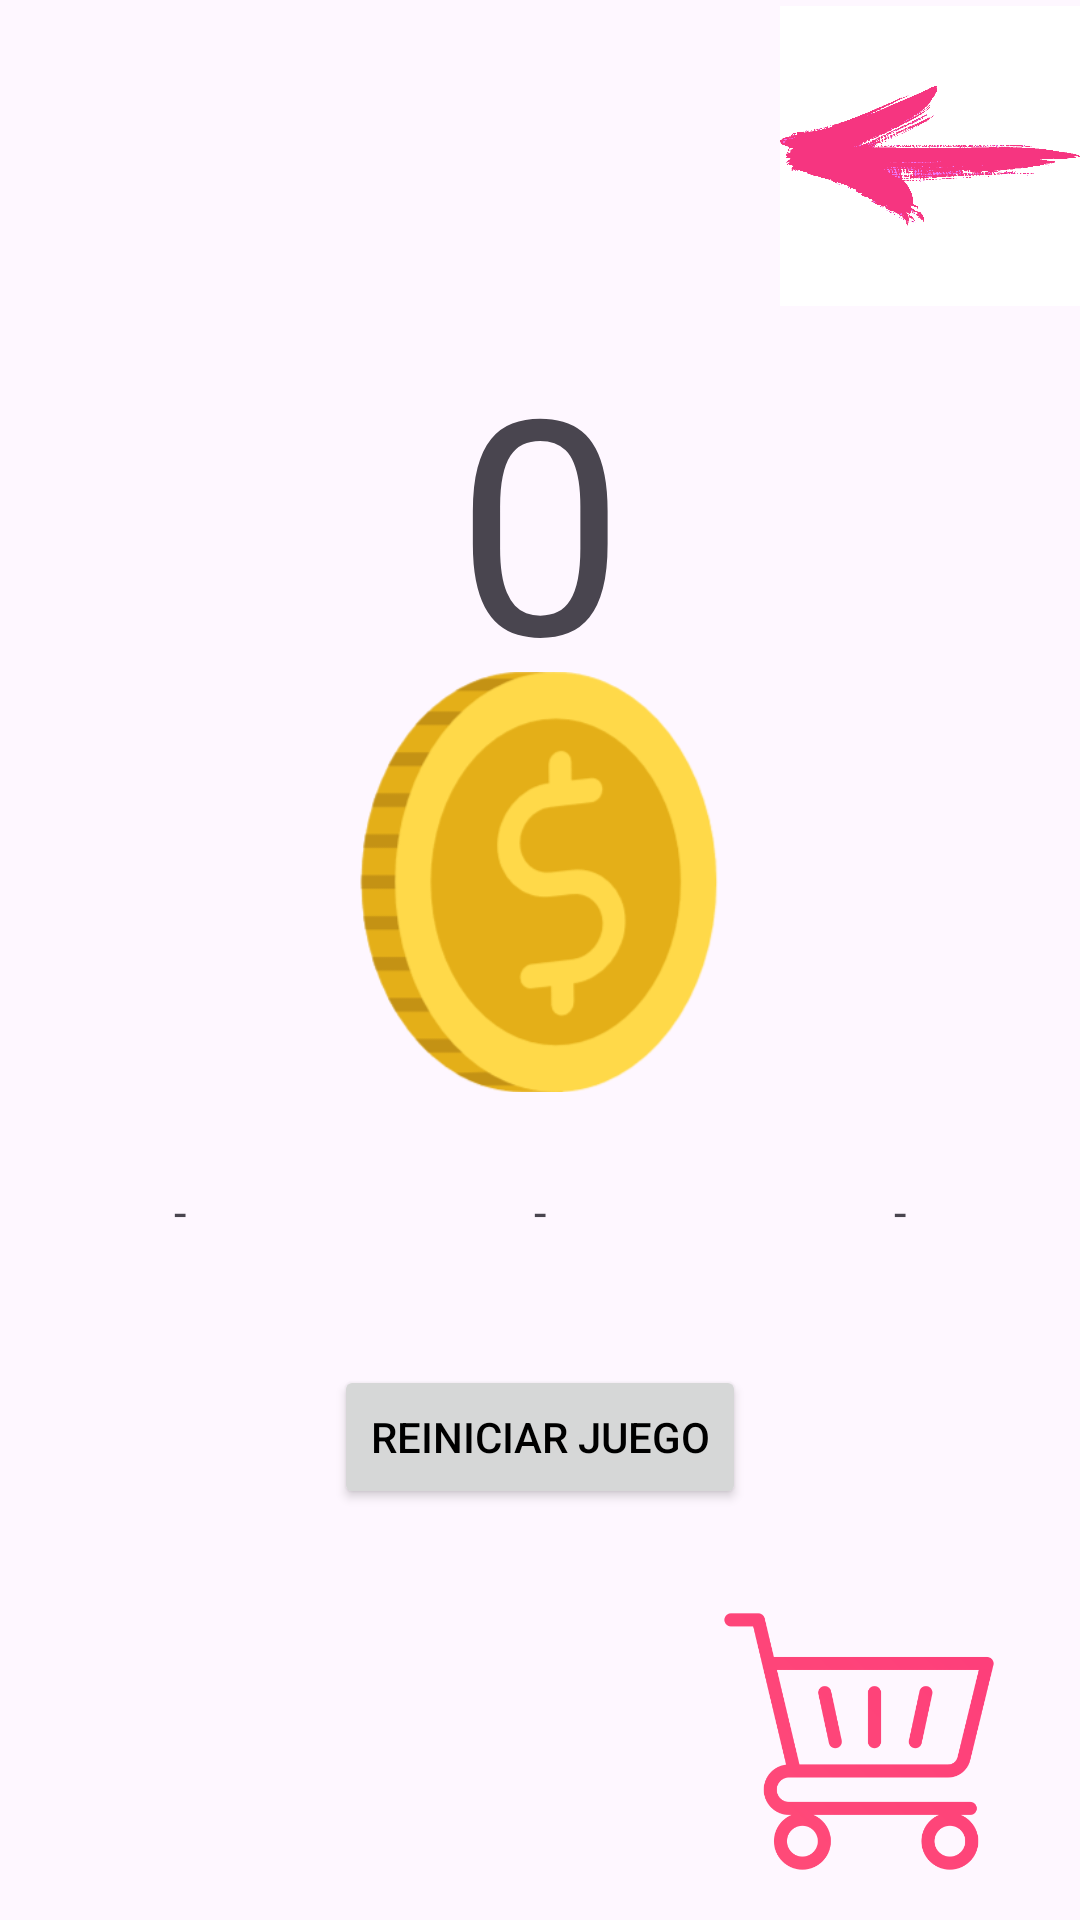

Screen size 1080x1920. Icon name, then its center in pixels as (x,y):
botón de flecha atrás: (930,156)
Carrito de la compra: (859,1741)
